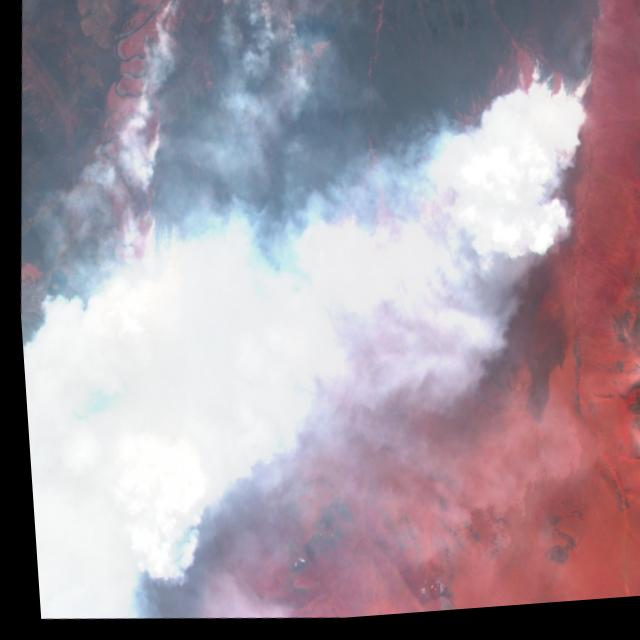fire: (72, 0, 631, 510)
